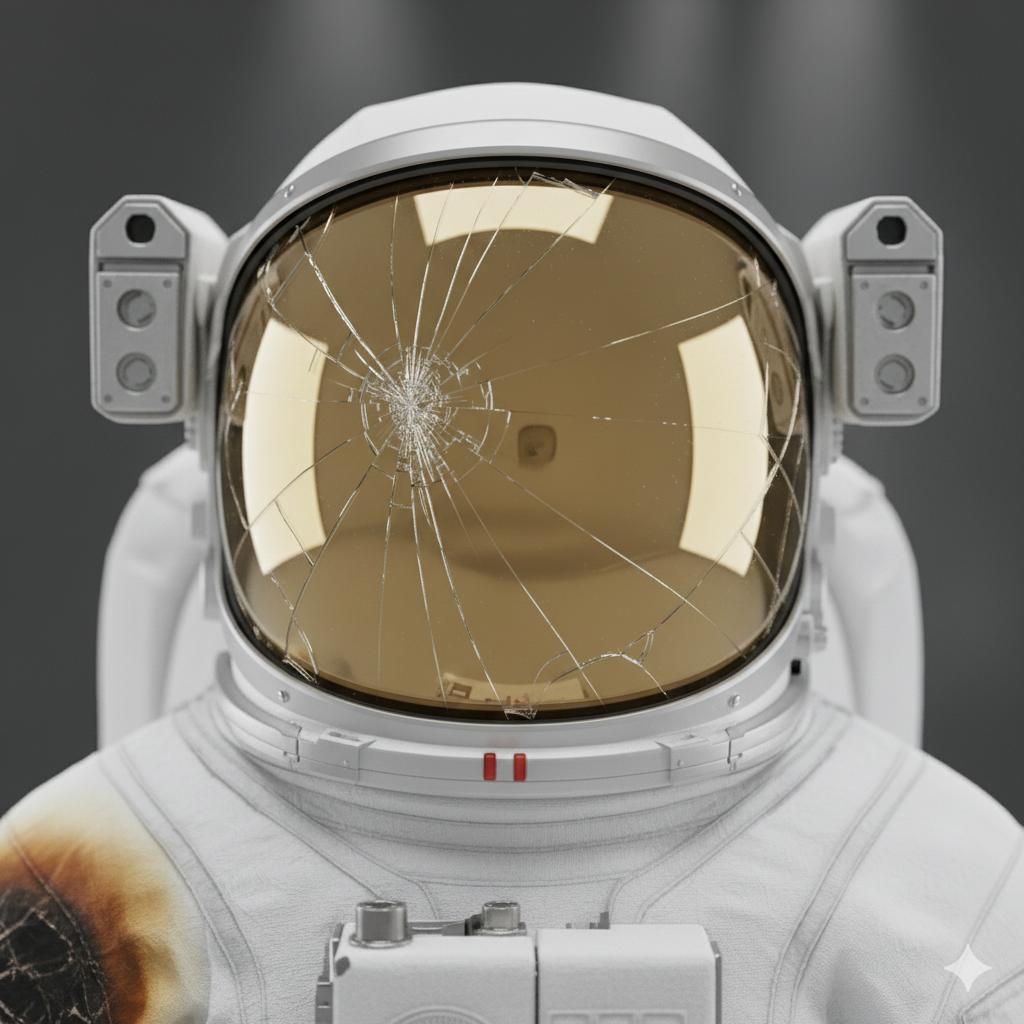crack: (168, 148, 824, 729)
